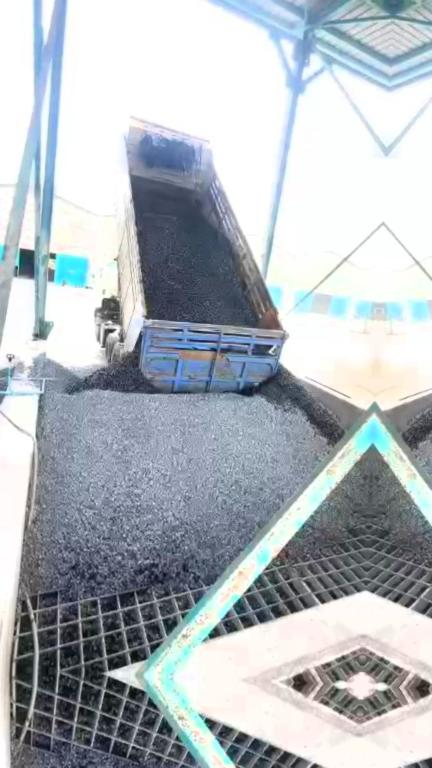gravel: (30, 357, 349, 598), (134, 211, 252, 327), (279, 440, 372, 560)
sand: (309, 359, 376, 403)
